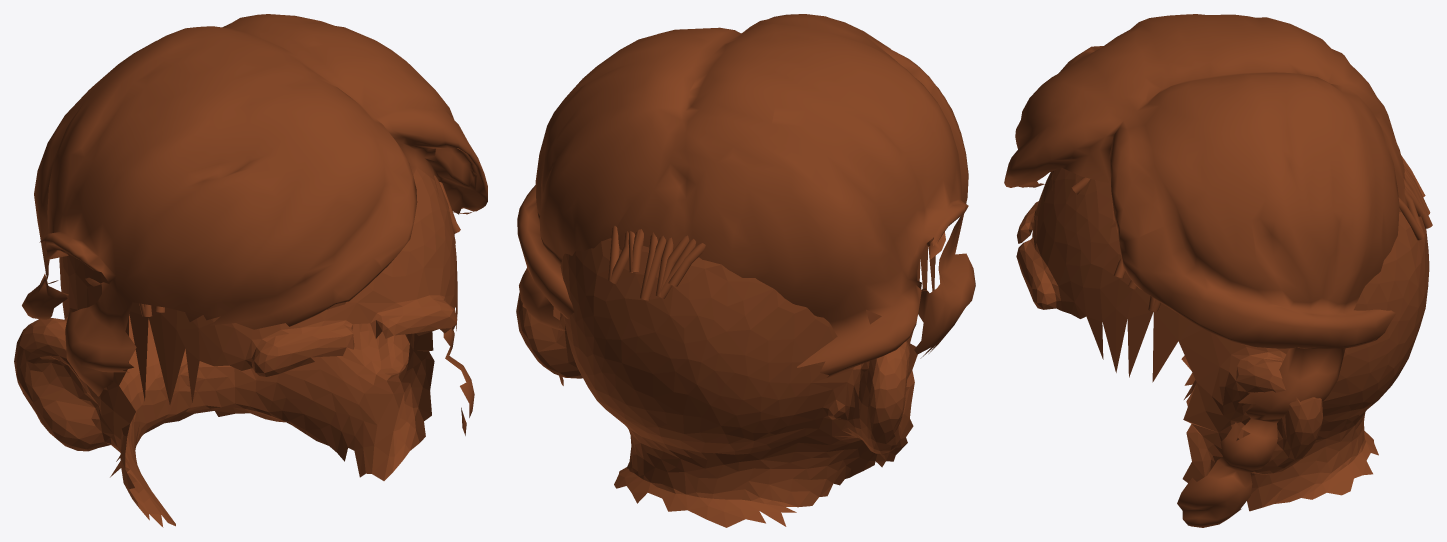
Rendered from braid.glb.
The picture shows the model from 3 angles, left to right: view 1: azimuth 30°, elevation 25°; view 2: azimuth 150°, elevation 25°; view 3: azimuth 270°, elevation 25°; orthographic projection. The views are drawn at different scales.
Visible parts, largest first — view 1: Hair, HairScalp; view 2: Hair, HairScalp, HairPulledRootStrands; view 3: Hair, HairScalp, HairPulledRootStrands.
Part boxes in pixels (x1=…): Hair: x1=22, y1=14, x2=487, y2=435; HairScalp: x1=14, y1=167, x2=457, y2=527; Hair: x1=517, y1=14, x2=975, y2=385; HairScalp: x1=516, y1=238, x2=935, y2=527; HairPulledRootStrands: x1=608, y1=226, x2=933, y2=300; Hair: x1=1004, y1=14, x2=1407, y2=527; HairScalp: x1=1016, y1=167, x2=1429, y2=511; HairPulledRootStrands: x1=1071, y1=155, x2=1432, y2=311.
Bounding box in the file's own units: 0.4726 × 0.4861 × 0.4482.
